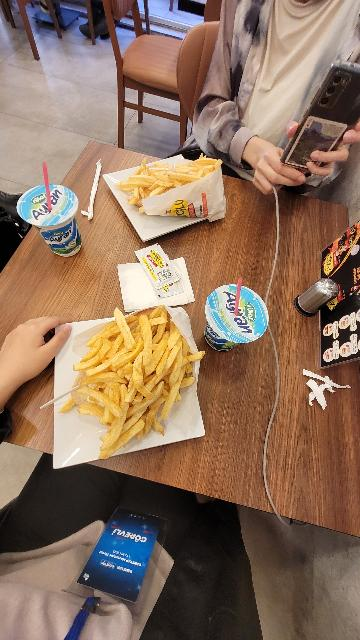Organik: (104, 138, 230, 236), (81, 317, 174, 428)
Plastik: (18, 185, 85, 263), (203, 284, 270, 355), (132, 245, 182, 286)
